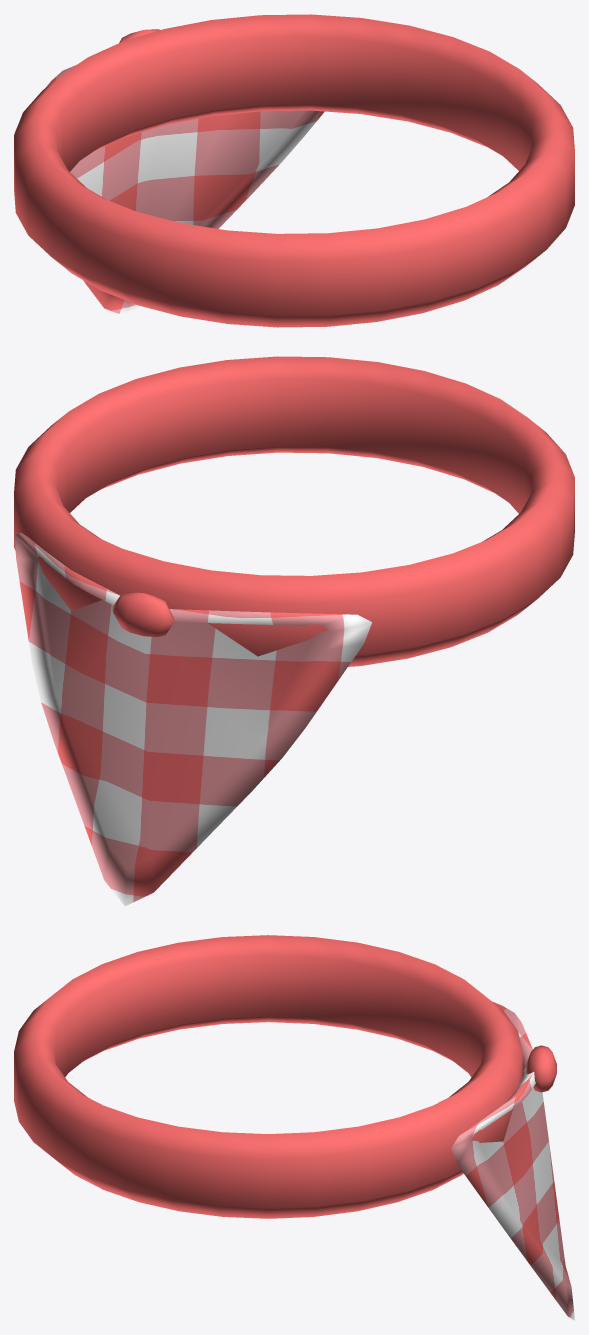
Rendered from scarf_bandana.glb.
3 views of the same model, one above another, from view 1: azimuth 30°, elevation 25°; view 2: azimuth 150°, elevation 25°; view 3: azimuth 270°, elevation 25° (orthographic). The views are drawn at different scales.
Visible parts, largest first — view 1: NeckRing, CheckedCloth; view 2: NeckRing, CheckedCloth, FoldButton; view 3: NeckRing, CheckedCloth, FoldButton.
Boxes of the visible parts, x1,y1,x2,y2 form: NeckRing: (14, 14, 574, 327); CheckedCloth: (14, 65, 324, 316); NeckRing: (14, 356, 574, 666); CheckedCloth: (14, 532, 371, 906); FoldButton: (112, 592, 174, 636); NeckRing: (14, 935, 522, 1218); CheckedCloth: (451, 1001, 574, 1320); FoldButton: (526, 1045, 556, 1092).
Size of the model in its own units: 0.188 by 0.1167 by 0.2073.
1 material, 1 textured.
